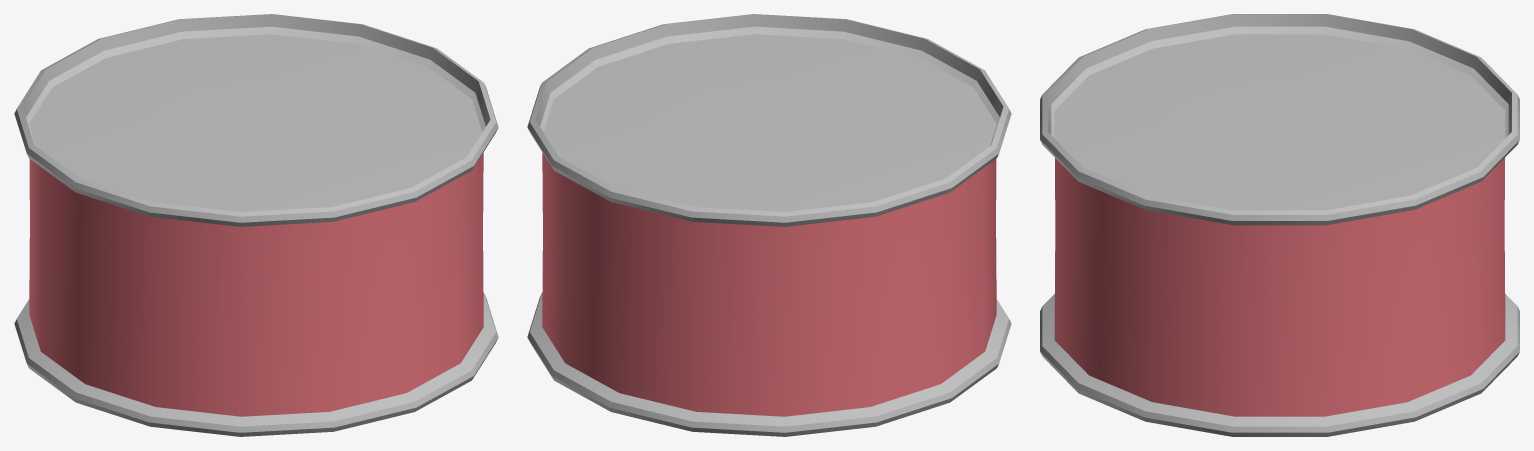
File: Props_Tuna2.fbx
3 views of the same model, side by side, from view 1: azimuth 30°, elevation 25°; view 2: azimuth 150°, elevation 25°; view 3: azimuth 270°, elevation 25° (orthographic).
Visible parts, largest first — view 1: Props_Tuna2; view 2: Props_Tuna2; view 3: Props_Tuna2.
Boxes of the visible parts, x1=… form: Props_Tuna2: x1=14, y1=14, x2=498, y2=436; Props_Tuna2: x1=527, y1=14, x2=1011, y2=436; Props_Tuna2: x1=1040, y1=14, x2=1519, y2=436.
Size of the model in its own units: 19.6 by 10.2 by 19.6.
